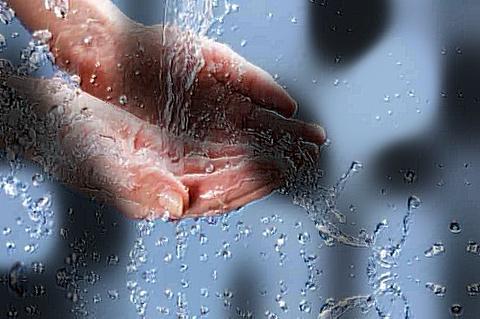washing hand: (51, 0, 376, 249)
